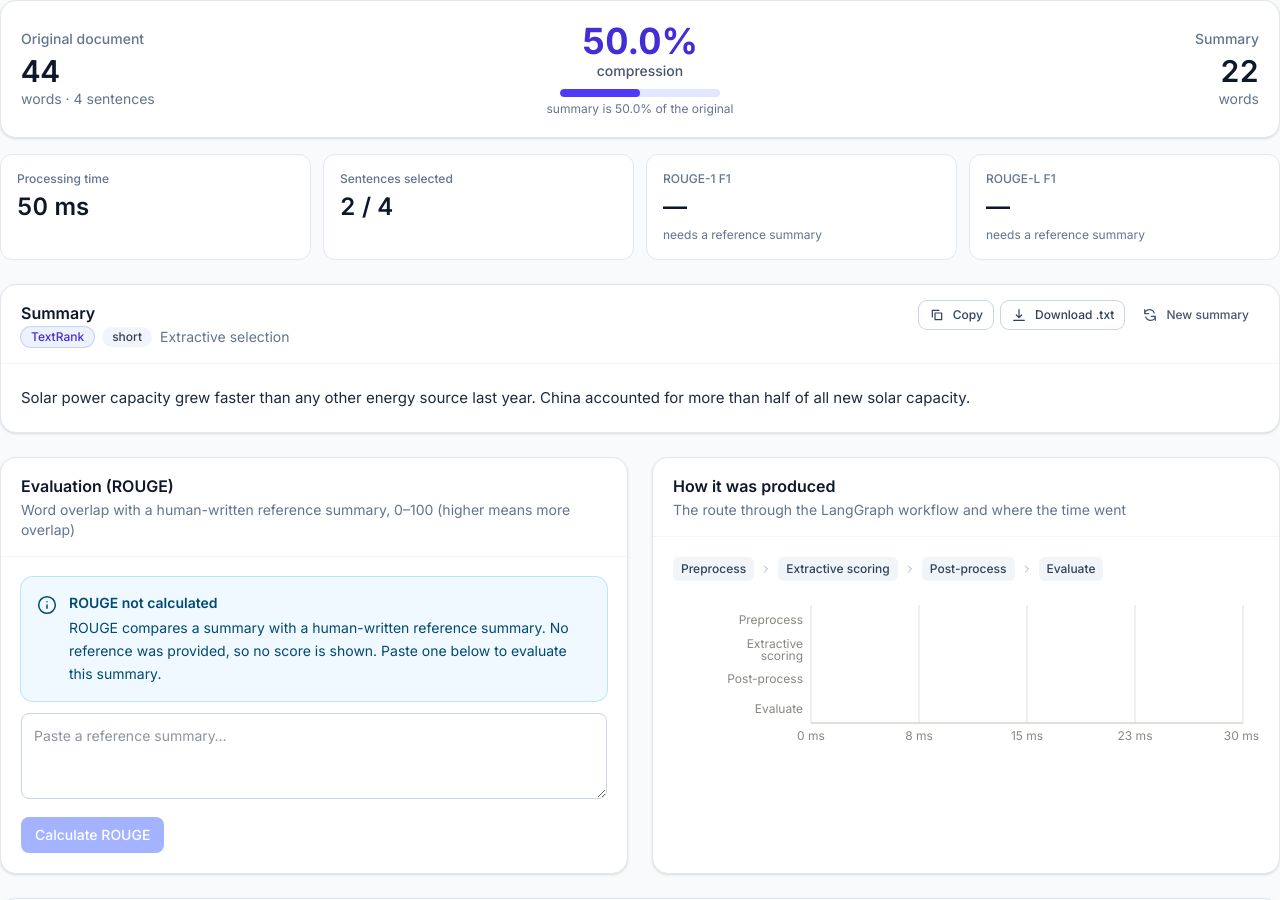
Test: copy and download › copies the summary to the clipboard
Click the button "Copy" at (956, 315), box [919, 301, 993, 329]
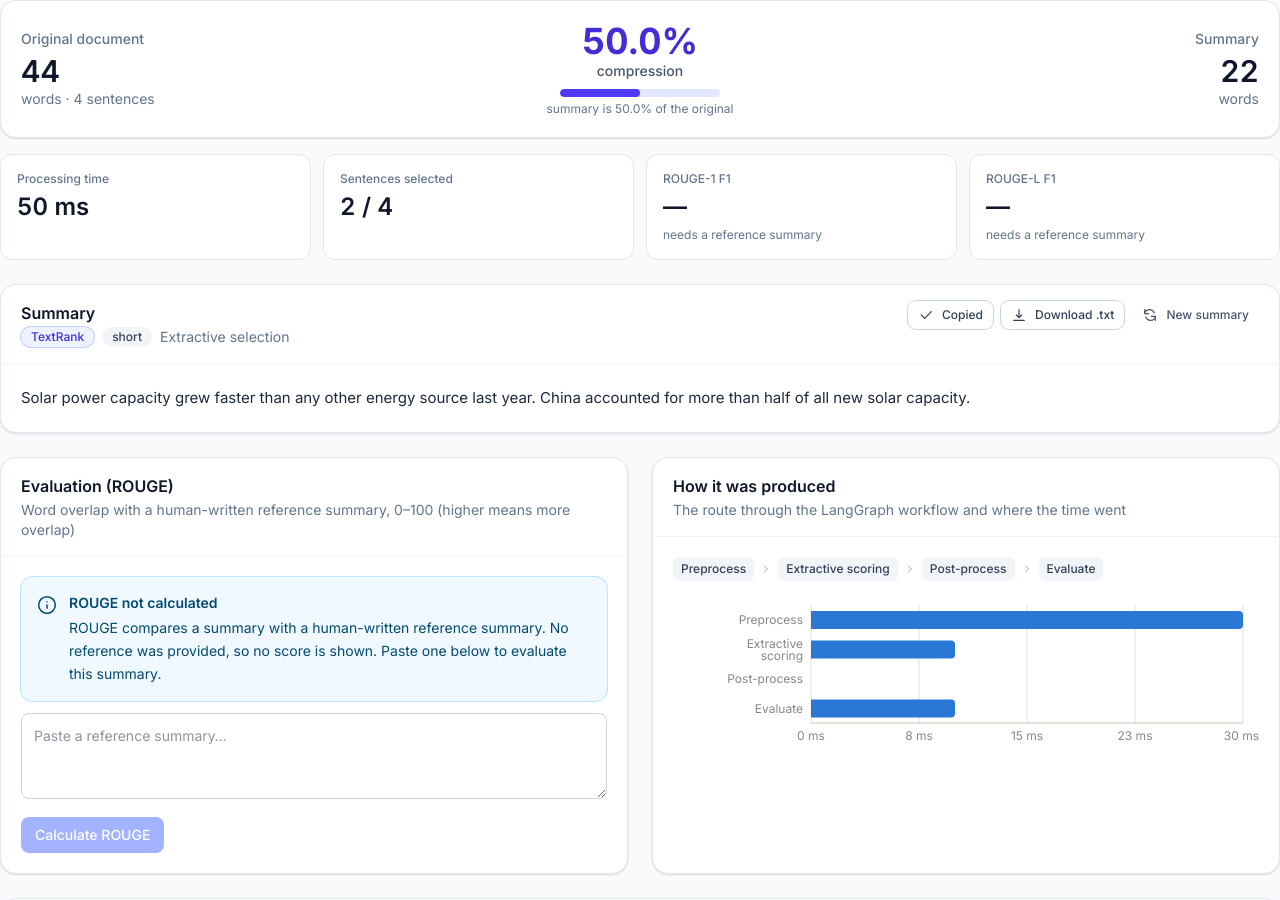
Now the button "Copied" is shown, box [908, 301, 993, 329]
